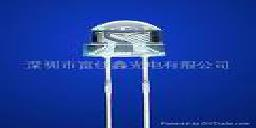LED: (83, 18, 173, 128)
